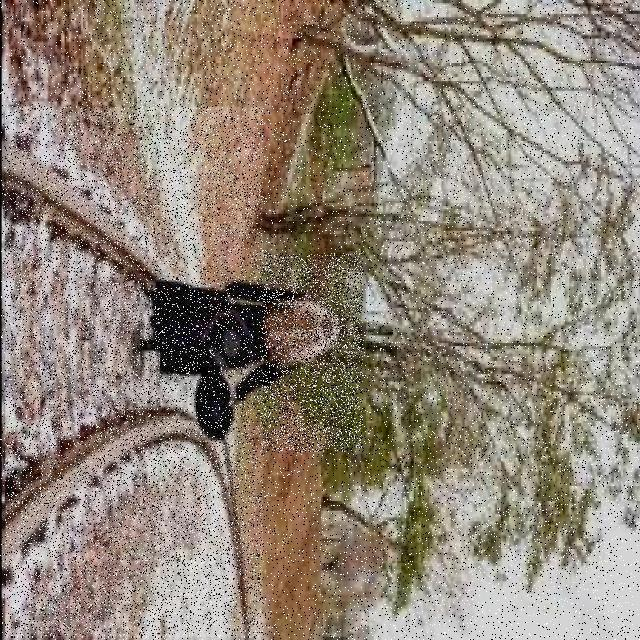rail: (7, 109, 264, 638)
